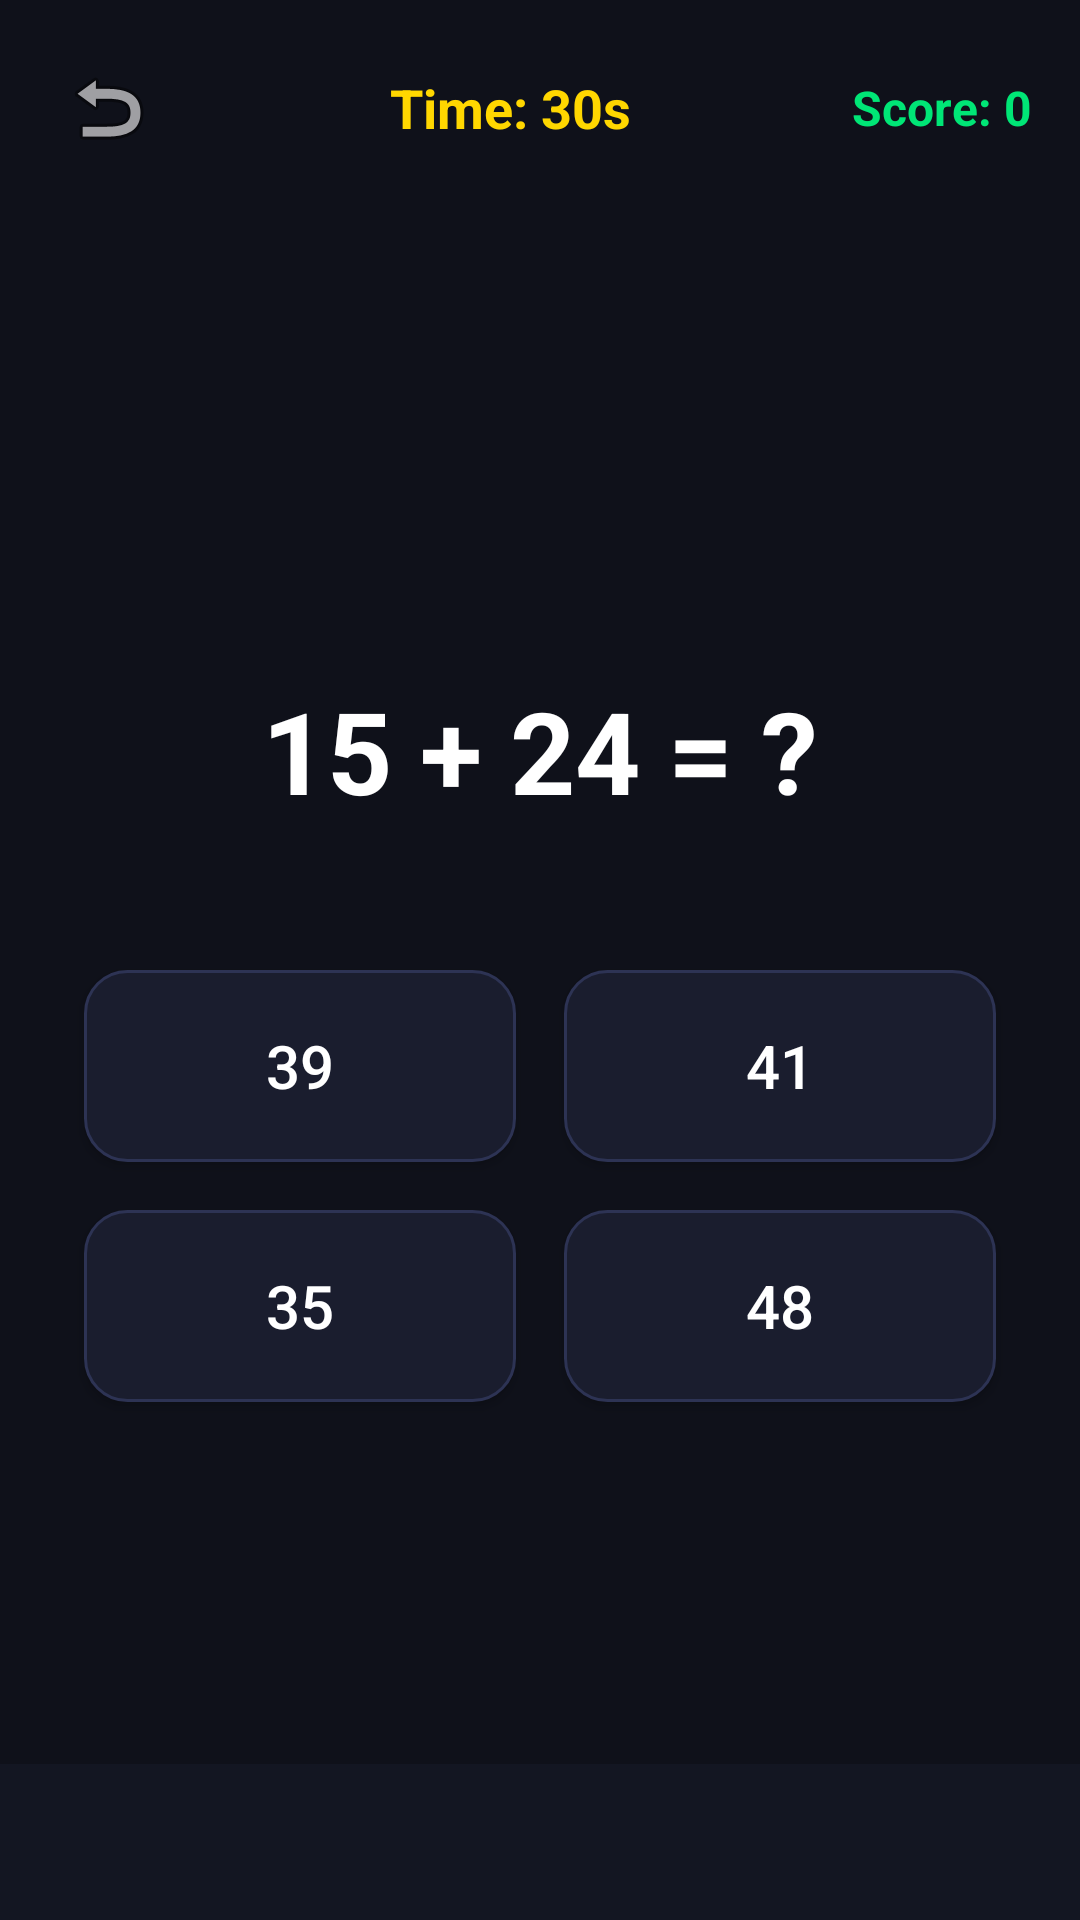

Named icons in this screenshot (1080px x 1920px) and their bounding boxes, (x1, y1, x2, y2):
Back: (78, 80, 141, 137)
